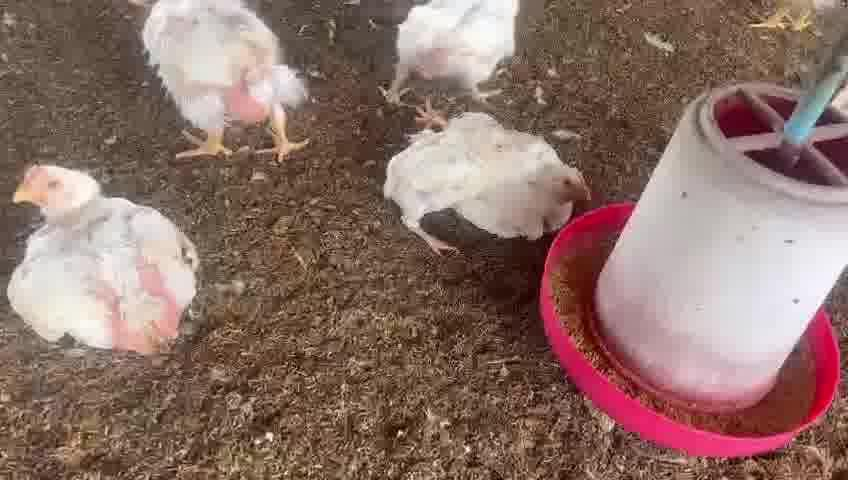AbNormal: (409, 106, 591, 244)
Normal: (9, 158, 196, 359), (120, 0, 311, 172), (383, 0, 532, 122)
